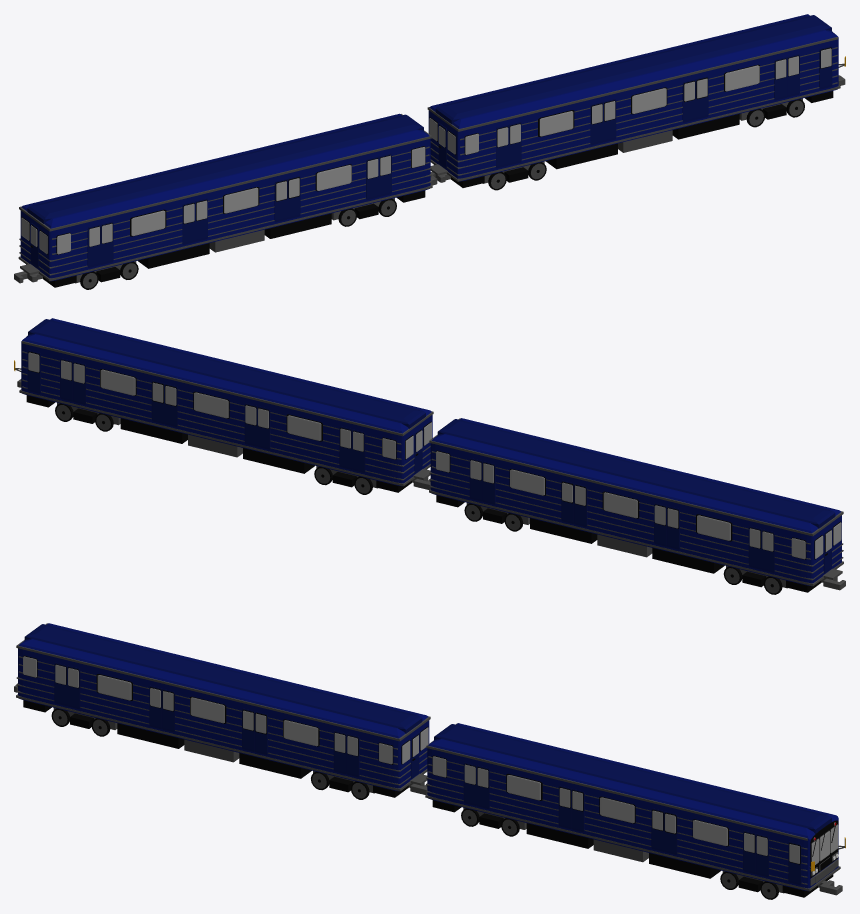
The model's file is subway.train.fbx.
3 renders of one model, top to bottom at view 1: azimuth 30°, elevation 25°; view 2: azimuth 150°, elevation 25°; view 3: azimuth 330°, elevation 25°, orthographic.
Parts seen in each view (by area): view 1: Cube.257, Cube, Cube.117, Cube.141, Cube.188, Cube.070, Cube.187, Cube.071, Cube.134, Cube.124, Cube.135, Cube.123 (+11 smaller); view 2: Cube.257, Cube, Cube.141, Cube.117, Cube.188, Cube.070, Cube.187, Cube.071, Cube.134, Cube.124, Cube.123, Cube.135 (+11 smaller); view 3: Cube.257, Cube, Cube.117, Cube.141, Cube.188, Cube.070, Cube.071, Cube.187, Cube.135, Cube.123, Cube.124, Cube.134 (+11 smaller).
Part boxes in pixels (x1,y1,x2,y2): Cube.257: (20,113,430,281); Cube: (428,14,838,181); Cube.117: (435,15,831,124); Cube.141: (27,114,423,223); Cube.188: (19,114,432,231); Cube.070: (427,37,837,131); Cube.187: (18,185,432,281); Cube.071: (430,85,840,181); Cube.134: (137,243,209,268); Cube.124: (545,143,617,169); Cube.135: (264,213,331,238); Cube.123: (672,114,739,139); Cube.257: (430,418,841,586); Cube: (21,318,432,486); Cube.141: (437,419,835,528); Cube.117: (28,319,425,428); Cube.188: (429,418,843,536); Cube.070: (22,341,433,436); Cube.187: (429,489,843,586); Cube.071: (19,389,430,486); Cube.134: (652,548,724,573); Cube.124: (243,448,314,473); Cube.123: (120,418,187,443); Cube.135: (530,518,597,543); Cube.257: (18,623,429,791); Cube: (427,723,838,891); Cube.117: (434,724,831,833); Cube.141: (24,624,422,733); Cube.188: (16,623,430,741); Cube.070: (426,723,837,840); Cube.071: (425,794,840,891); Cube.187: (16,694,427,791); Cube.135: (239,753,311,778); Cube.123: (649,853,720,878); Cube.124: (526,823,593,848); Cube.134: (117,723,184,748).
Bounding box in the file's own units: 4148 × 377 × 297.
